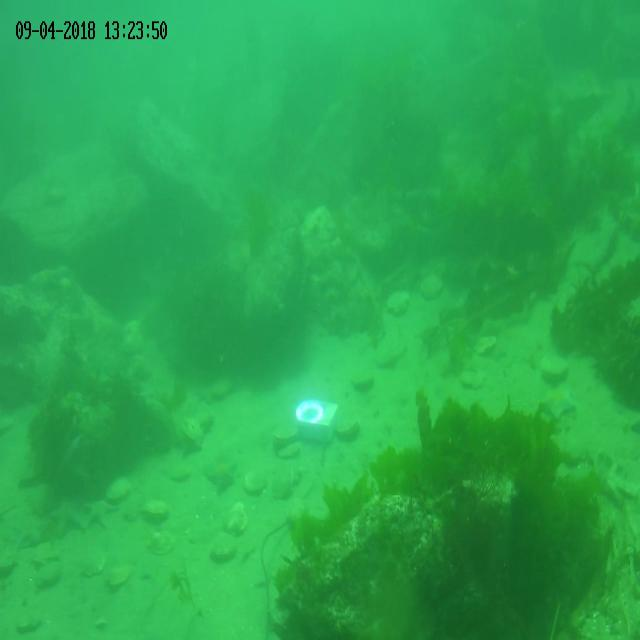scallop: (209, 530, 239, 560), (145, 529, 177, 557), (222, 502, 249, 535), (539, 352, 570, 379), (35, 563, 63, 590), (142, 498, 172, 522), (420, 271, 444, 301), (106, 476, 132, 503), (335, 412, 359, 441), (14, 610, 42, 634), (461, 366, 487, 391), (244, 468, 268, 495), (32, 541, 61, 563), (106, 562, 132, 586), (386, 289, 409, 316), (272, 424, 300, 446), (80, 552, 106, 574), (474, 331, 496, 357), (46, 182, 68, 206), (210, 378, 232, 400), (169, 461, 191, 483), (1, 548, 18, 576), (278, 441, 302, 460)
starfish: (56, 430, 92, 488), (51, 492, 87, 540), (541, 382, 577, 423), (14, 511, 49, 553), (84, 493, 116, 538), (206, 457, 238, 499), (176, 431, 200, 456)
